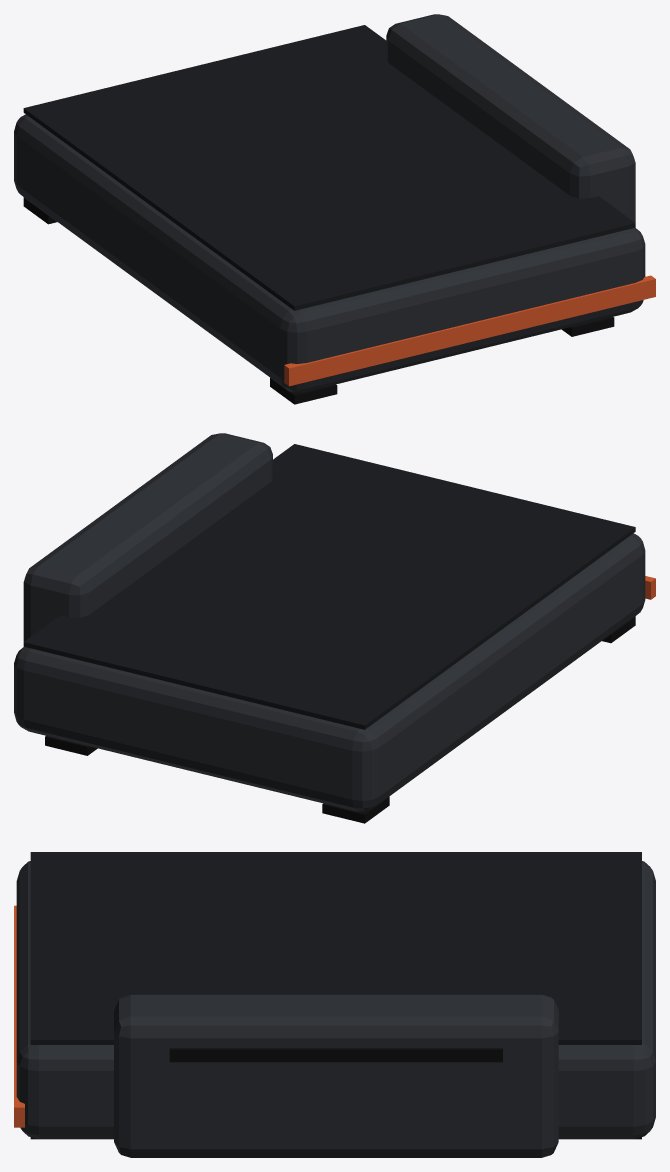
Rendered from pos_terminal.glb.
3 views of the same model, one above another, from view 1: azimuth 30°, elevation 25°; view 2: azimuth 150°, elevation 25°; view 3: azimuth 270°, elevation 25° (orthographic). The views are drawn at different scales.
Parts seen in each view (by area): view 1: POS; view 2: POS; view 3: POS.
Part boxes in pixels (<box>): POS: <box>14,14,655,404</box>; POS: <box>14,433,655,823</box>; POS: <box>14,852,655,1157</box>.
Bounding box in the file's own units: 0.187 × 0.06 × 0.231.
